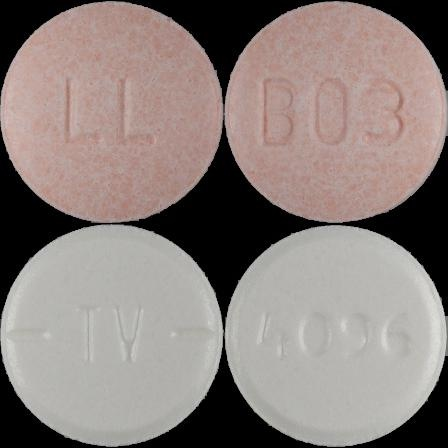50436-8900: (0, 0, 224, 224)
